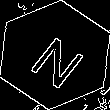N_NE: (21, 23, 89, 87)
